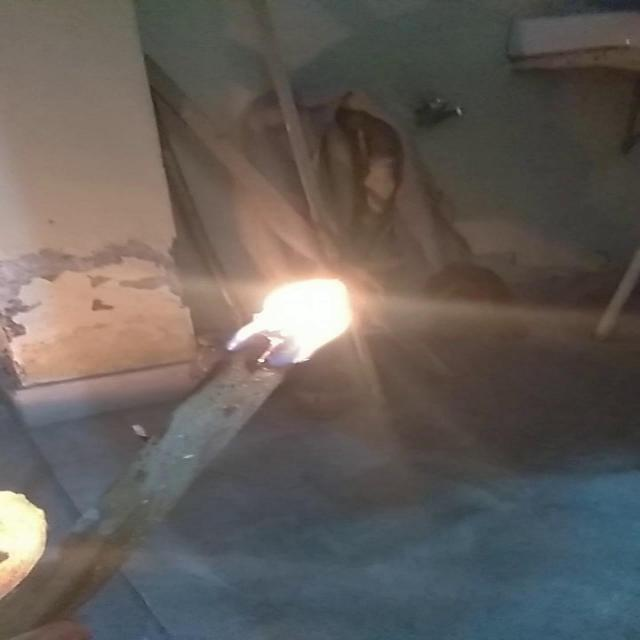fire: (217, 260, 387, 366)
